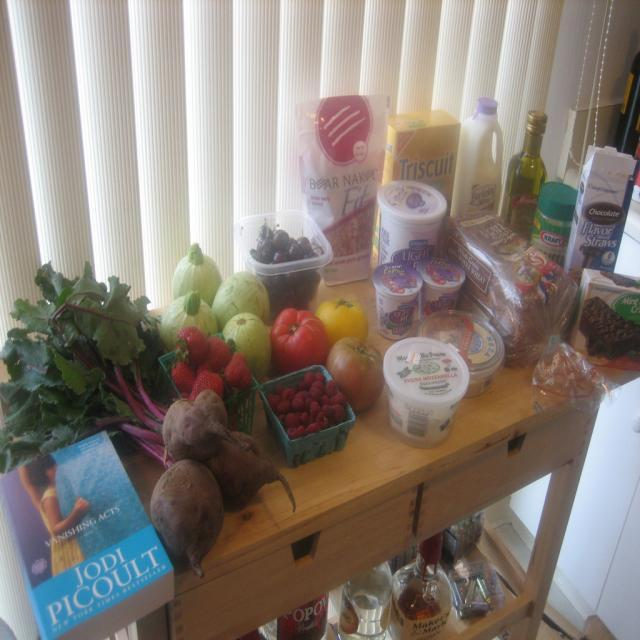Strawberry: (268, 374, 353, 464)
